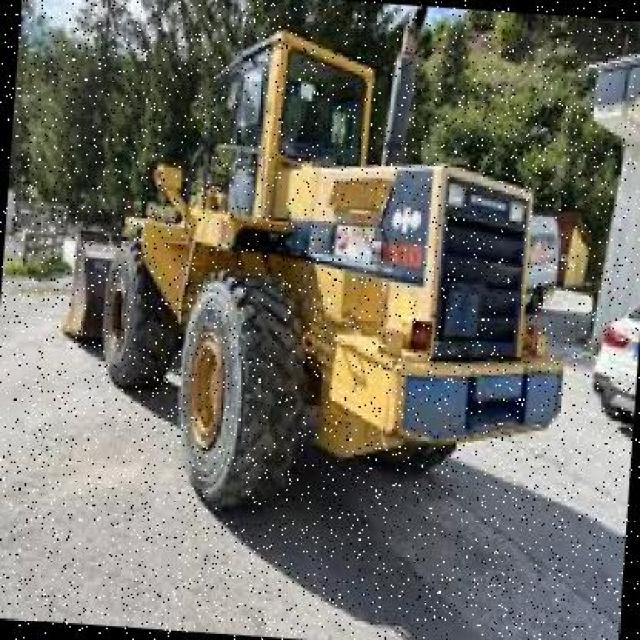buldozerpayloadergrader: (75, 16, 590, 558)
